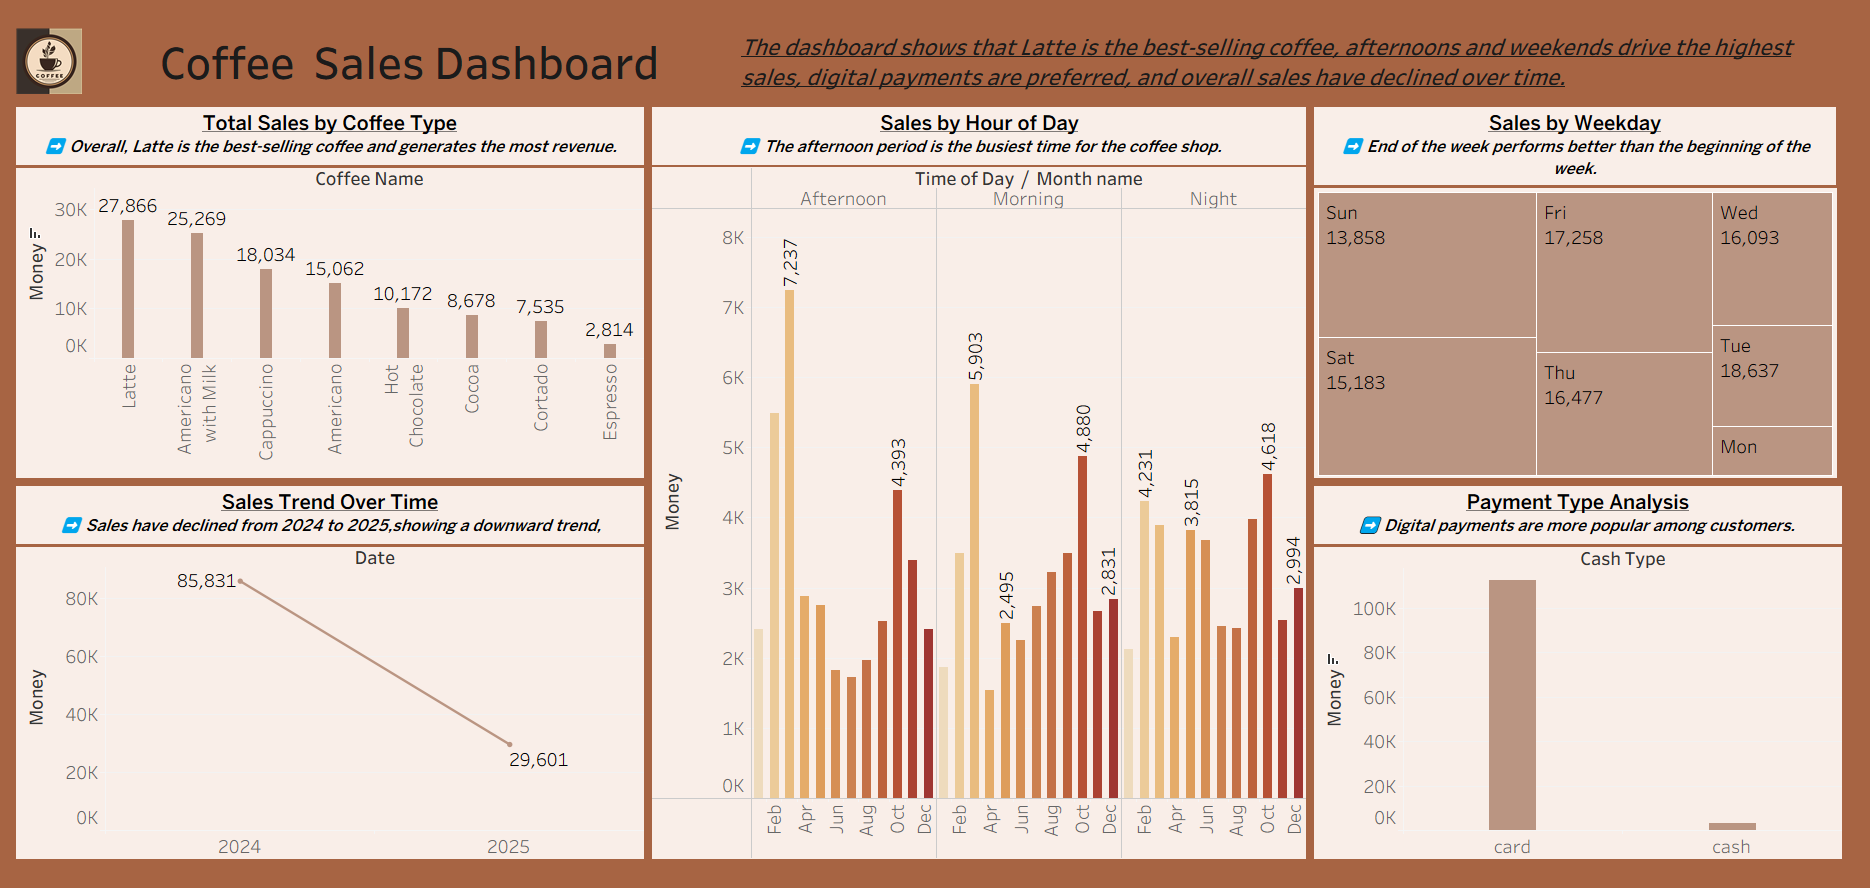

The dashboard page shown, as its layout file describes it:
{"tool":"tableau","page":{"name":"Dashboard 1","canvas":[1000,1000],"units":"permille","ordinal":0},"visuals":[{"type":"image","param":"Image/coffee-cup-logo-design-template-premium-coffee-shop-logo-free-vector.jpg","box":[4.3,10.7,40,97]},{"type":"text","box":[44.3,10.7,349.7,97]},{"type":"text","box":[394,10.7,601.6,97]},{"type":"worksheet","title":"Total Sales by Coffee Type","mark":"Bar","rows":["money"],"cols":["coffee_name"],"box":[4.3,107.7,343.6,439.9]},{"type":"worksheet","title":"Sales by Hour of Day","mark":"Bar","rows":["money"],"cols":["Time_of_Day","Month_name"],"box":[347.9,107.7,358.3,881.6]},{"type":"worksheet","title":"Sales by Weekday","mark":"Automatic","box":[706.2,107.7,289.5,440.3]},{"type":"worksheet","title":"Sales Trend Over Time","mark":"Line","rows":["money"],"cols":["date"],"box":[4.3,547.6,343.6,441.7]},{"type":"worksheet","title":"Payment Type Analyse","mark":"Automatic","rows":["money"],"cols":["cash_type"],"box":[706.2,548.1,289.5,441.2]}]}

Visuals, with their boxes on the dashboard's canvas, which has no fixed pixel size, in thousandths of its width and height (x1, y1, x2, y2). These are canvas units, not pixel positions in the 1870x888 screenshot, which may show the page scaled, cropped or inside an application window:
image: <box>4,11,44,108</box>
text: <box>44,11,394,108</box>
text: <box>394,11,996,108</box>
"Total Sales by Coffee Type" worksheet (Bar marks): <box>4,108,348,548</box>
"Sales by Hour of Day" worksheet (Bar marks): <box>348,108,706,989</box>
"Sales by Weekday" worksheet: <box>706,108,996,548</box>
"Sales Trend Over Time" worksheet (Line marks): <box>4,548,348,989</box>
"Payment Type Analyse" worksheet: <box>706,548,996,989</box>
